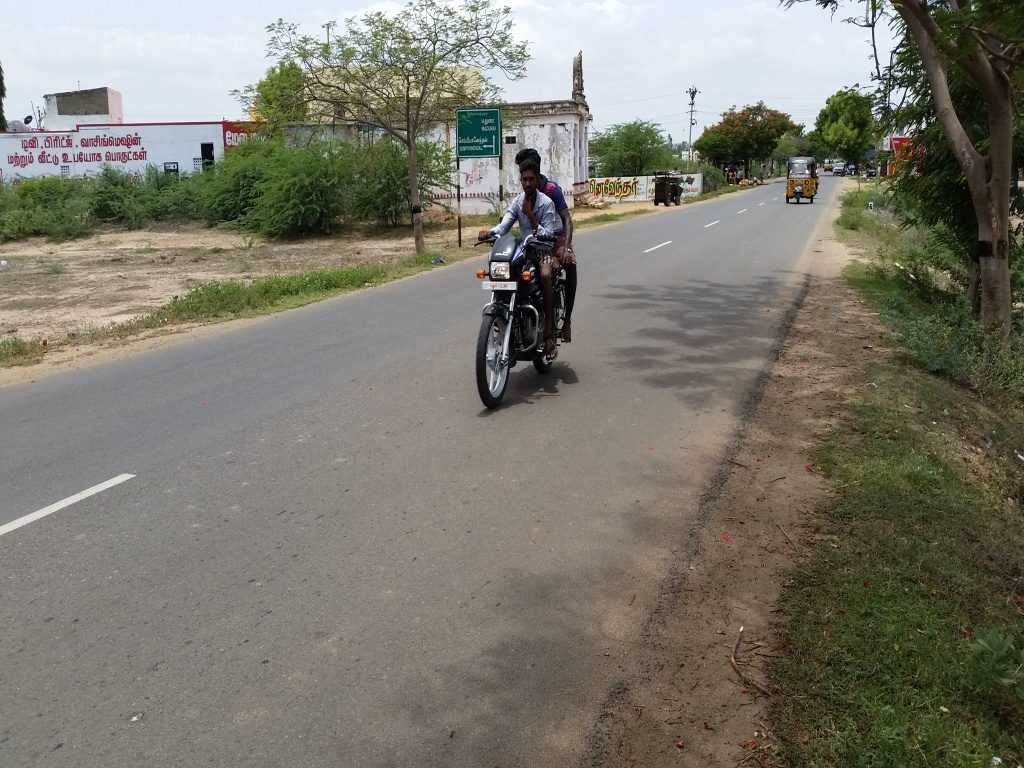biker: (445, 120, 609, 422)
nohelmet: (511, 143, 555, 211)
